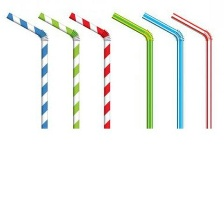drinking_straw: (1, 8, 54, 130), (65, 8, 117, 128), (106, 10, 158, 129), (35, 9, 85, 129), (139, 7, 187, 129), (168, 10, 216, 128)
